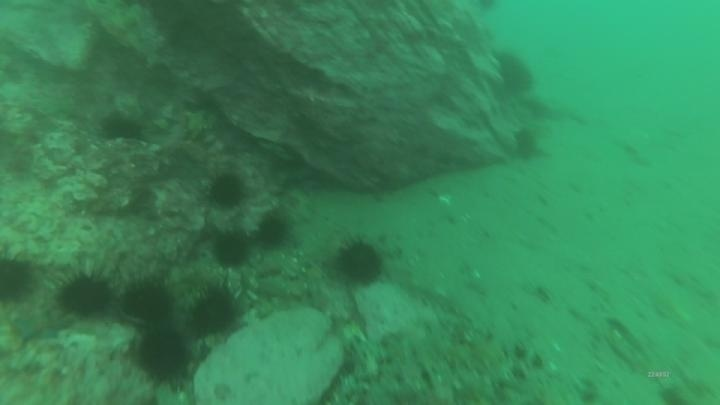echinus: (135, 325, 193, 385), (54, 268, 116, 321), (186, 284, 242, 340), (120, 276, 176, 326), (333, 236, 386, 288), (492, 48, 536, 98), (0, 251, 37, 306), (210, 229, 252, 271), (206, 170, 248, 211), (98, 111, 146, 144), (254, 211, 292, 250), (510, 126, 542, 163)
holothurian: (441, 331, 509, 375)
starfish: (12, 309, 66, 346)
